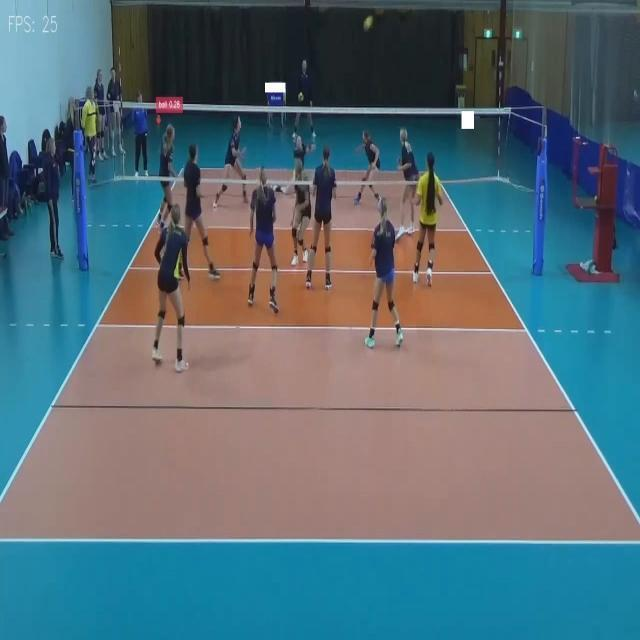volleyball: (363, 18, 375, 32), (298, 92, 306, 101)
